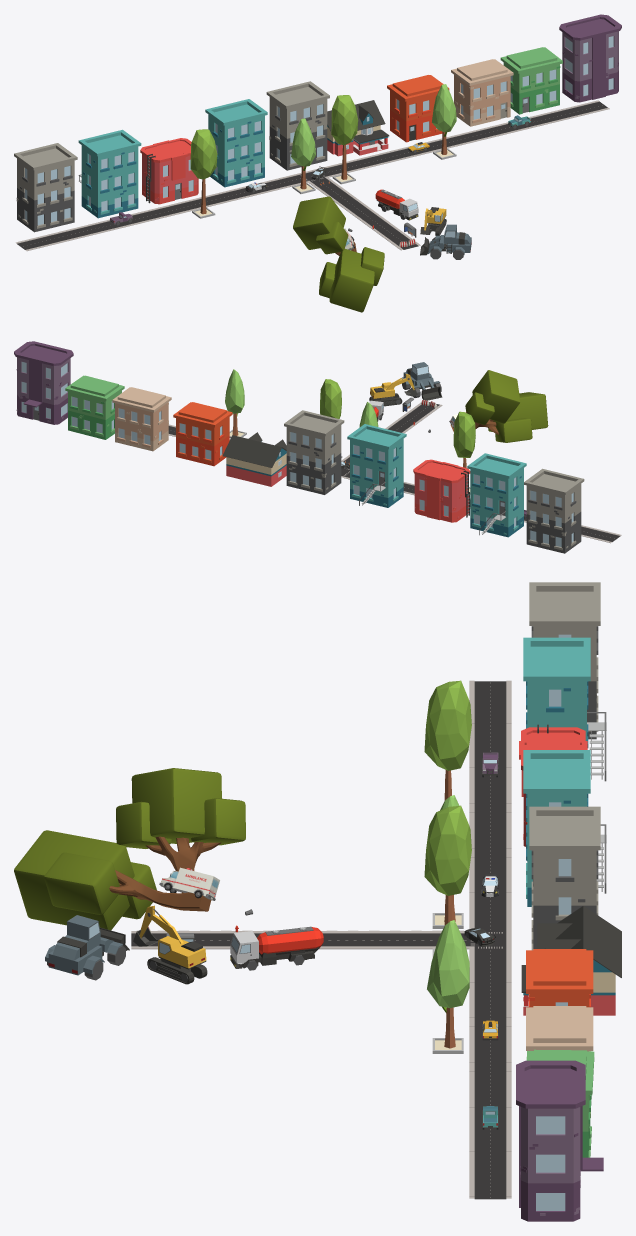
File: crash_scene_2.glb
The picture shows the model from 3 angles, top to bottom: view 1: azimuth 30°, elevation 25°; view 2: azimuth 150°, elevation 25°; view 3: azimuth 270°, elevation 25°; orthographic projection. The views are drawn at different scales.
Parts seen in each view (by area): view 1: Building_2_Mat_0.001, Building_7_Mat_0, Building_3_Mat_0.001, Building_3_Mat_0, Building_2_Mat_0, Building_5_Mat_0, Building_9_Mat_0, Building_6_Mat_0, Tree_1.002, Building_4_Mat_0, Tree_1.001, Building_1_Mat_0 (+7 smaller); view 2: Building_2_Mat_0, Building_2_Mat_0.001, Building_3_Mat_0, Building_3_Mat_0.001, Building_7_Mat_0, Building_9_Mat_0, Building_5_Mat_0, Building_4_Mat_0, Building_6_Mat_0, Building_1_Mat_0, Tree_1.001, Tree_1.002 (+6 smaller); view 3: Tree_1.002, Building_7_Mat_0, Tree_1.001, Building_2_Mat_0, Building_3_Mat_0.001, Building_2_Mat_0.001, Building_3_Mat_0, Building_1_Mat_0, Building_4_Mat_0, Tree_2_Mat_0.001, Tree_2_Mat_0, Tree_1_Mat_0.001 (+7 smaller).
Boxes of the visible parts, box(x1,y1,x2,y2) form: Building_2_Mat_0.001: box(14, 143, 77, 232); Building_7_Mat_0: box(559, 14, 621, 102); Building_3_Mat_0.001: box(78, 129, 141, 218); Building_3_Mat_0: box(205, 99, 267, 187); Building_2_Mat_0: box(266, 81, 329, 170); Building_5_Mat_0: box(451, 59, 513, 126); Building_9_Mat_0: box(140, 138, 198, 204); Building_6_Mat_0: box(500, 47, 562, 114); Tree_1.002: box(319, 240, 384, 312); Building_4_Mat_0: box(387, 75, 449, 142); Tree_1.001: box(293, 196, 348, 255); Building_1_Mat_0: box(327, 100, 389, 156); Building_2_Mat_0: box(284, 410, 344, 494); Building_2_Mat_0.001: box(524, 468, 584, 553); Building_3_Mat_0: box(347, 424, 406, 507); Building_3_Mat_0.001: box(467, 453, 526, 537); Building_7_Mat_0: box(14, 341, 73, 424); Building_9_Mat_0: box(413, 459, 470, 522); Building_5_Mat_0: box(112, 387, 171, 451); Building_4_Mat_0: box(173, 402, 232, 466); Building_6_Mat_0: box(65, 375, 124, 439); Building_1_Mat_0: box(222, 432, 286, 486); Tree_1.001: box(465, 370, 520, 428); Tree_1.002: box(450, 392, 548, 442); Tree_1.002: box(14, 830, 211, 930); Building_7_Mat_0: box(516, 1060, 603, 1221); Tree_1.001: box(116, 768, 245, 893); Building_2_Mat_0: box(529, 806, 600, 950); Building_3_Mat_0.001: box(523, 637, 606, 781); Building_2_Mat_0.001: box(529, 582, 600, 739); Building_3_Mat_0: box(523, 750, 606, 906); Building_1_Mat_0: box(521, 906, 621, 1015); Building_4_Mat_0: box(526, 949, 593, 1007); Tree_2_Mat_0.001: box(424, 805, 471, 957); Tree_2_Mat_0: box(424, 680, 471, 800); Tree_1_Mat_0.001: box(427, 920, 469, 1053).
Size of the model in its own units: 60.74 by 10.27 by 28.77.
Materials: 51 (51 with a texture image).
